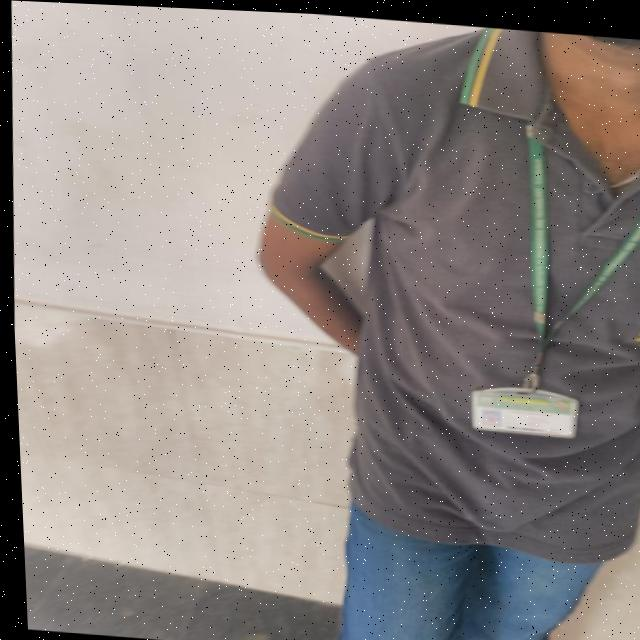id_card: (466, 120, 640, 433), (581, 176, 640, 228)
